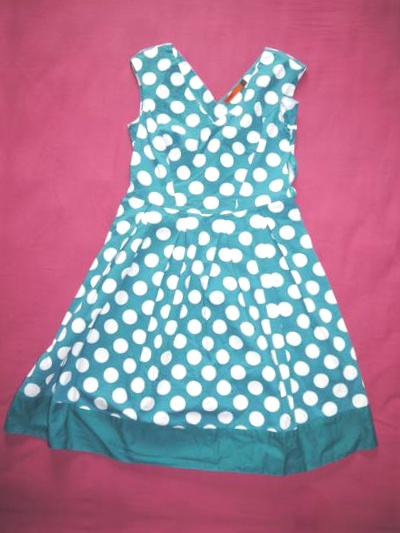Dress: (7, 11, 400, 502)
